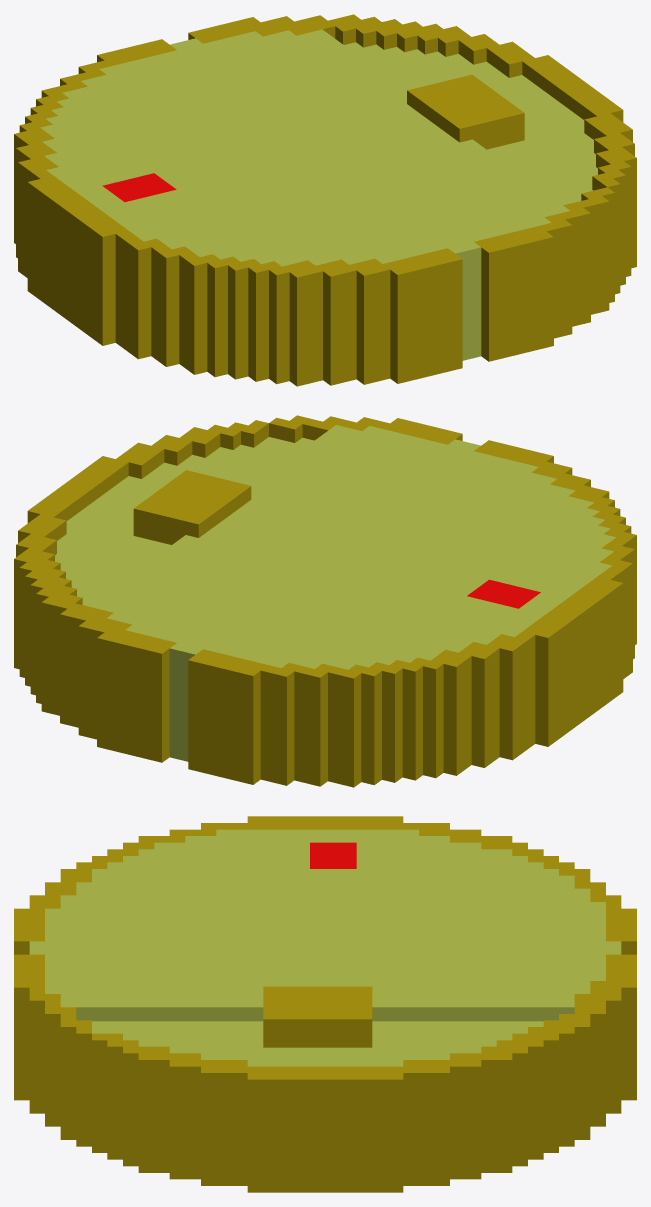
The model's file is Cleaner.fbx.
3 renders of one model, top to bottom at view 1: azimuth 30°, elevation 25°; view 2: azimuth 150°, elevation 25°; view 3: azimuth 270°, elevation 25°, orthographic. The views are drawn at different scales.
Parts seen in each view (by area): view 1: Cleaner; view 2: Cleaner; view 3: Cleaner.
Part boxes in pixels (bbox=[...]): Cleaner: bbox=[14, 14, 636, 386]; Cleaner: bbox=[14, 415, 636, 787]; Cleaner: bbox=[14, 816, 636, 1192].
Size of the model in its own units: 400 by 90 by 400.
